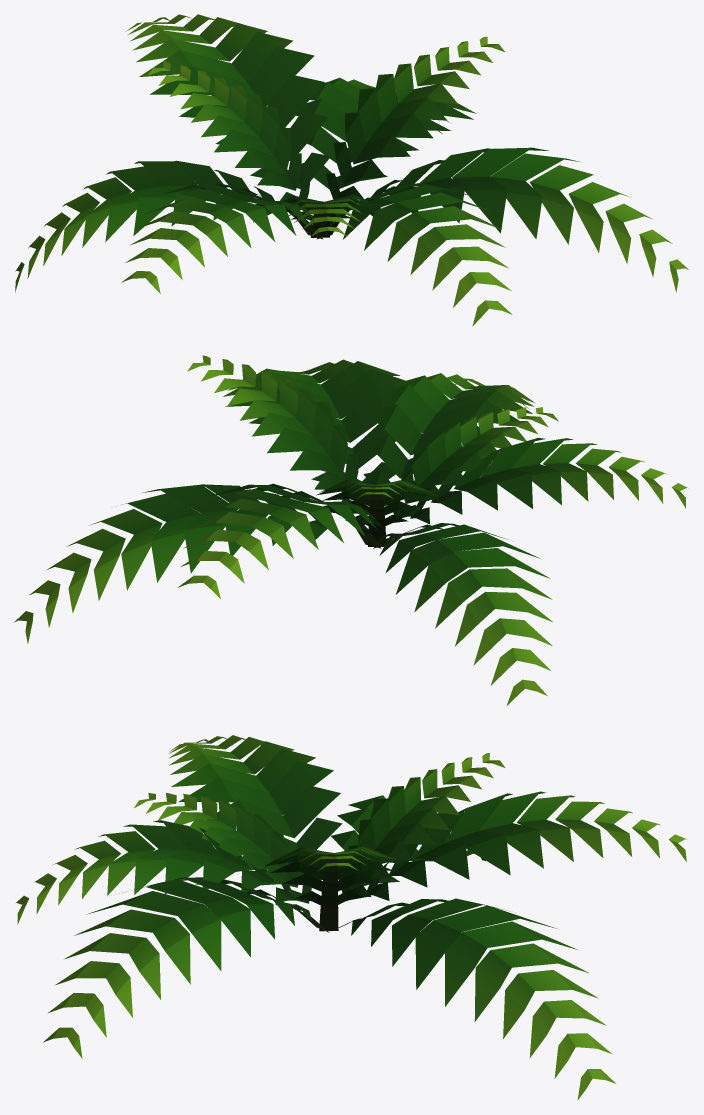
Rendered from sword-fern-b.glb.
3 renders of one model, top to bottom at view 1: azimuth 30°, elevation 25°; view 2: azimuth 150°, elevation 25°; view 3: azimuth 270°, elevation 25°, orthographic. The views are drawn at different scales.
Parts seen in each view (by area): view 1: sword_fern_b; view 2: sword_fern_b; view 3: sword_fern_b.
Boxes of the visible parts, x1,y1,x2,y2 form: sword_fern_b: (15,14,688,326); sword_fern_b: (14,355,687,705); sword_fern_b: (16,735,686,1100).
Bounding box in the file's own units: 1.1 × 0.4122 × 1.26.
